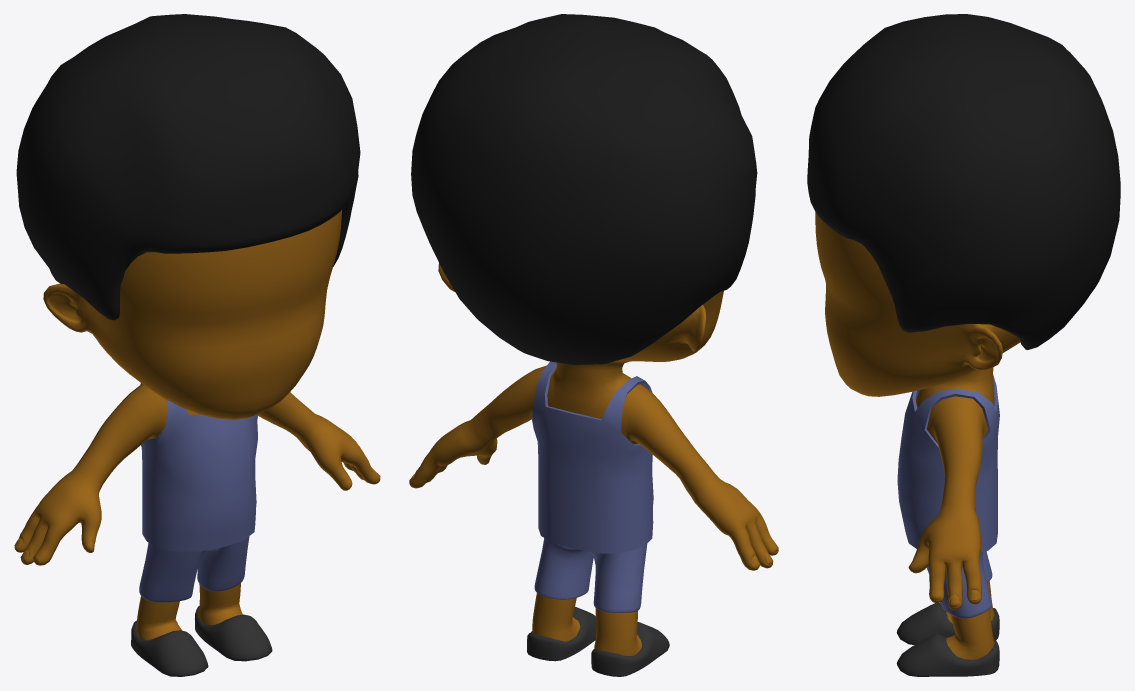
Rendered from male_ver_2.FBX.
The picture shows the model from 3 angles, left to right: view 1: azimuth 30°, elevation 25°; view 2: azimuth 150°, elevation 25°; view 3: azimuth 270°, elevation 25°; orthographic projection.
Visible parts, largest first — view 1: hair_03:hair_03, body, tshirt1, shoes, pent; view 2: hair_03:hair_03, body, tshirt1, pent, shoes; view 3: hair_03:hair_03, body, tshirt1, shoes, pent.
Boxes of the visible parts, x1,y1,x2,y2 form: hair_03:hair_03: (16, 14, 360, 320); body: (14, 210, 380, 640); tshirt1: (140, 383, 258, 551); shoes: (131, 606, 272, 676); pent: (139, 536, 249, 602); hair_03:hair_03: (411, 14, 757, 364); body: (409, 263, 778, 655); tshirt1: (532, 361, 653, 553); pent: (534, 538, 647, 612); shoes: (527, 606, 669, 676); hair_03:hair_03: (807, 14, 1120, 349); body: (815, 212, 1020, 659); tshirt1: (897, 374, 999, 552); shoes: (896, 603, 999, 676); pent: (926, 551, 992, 618).
Bounding box in the file's own units: 10.58 × 17.59 × 8.13.
